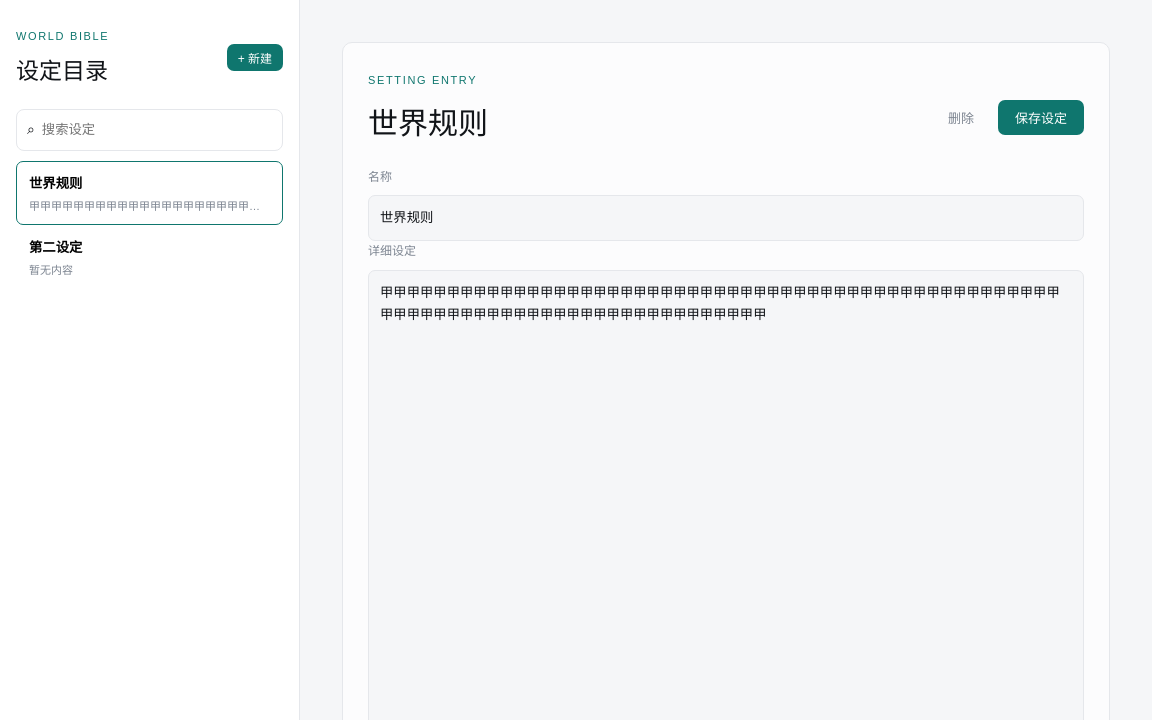
Test case: R11 世界面板 D1~D3：列表/搜索 IME 契约/分页/新建（legacy :13-45） › D1 目录列表：行结构、60 字截断、暂无内容、选中 active（:15）
Expected: the text "世界规则" is shown, [29,173,82,192]
Expected: the text "暂无内容" is shown, [29,261,73,277]
# 点第二行：选中随之切换（:31 find by data-world-id → render）
Click the button "第二设定 暂无内容": (56, 247) [16,225,283,289]
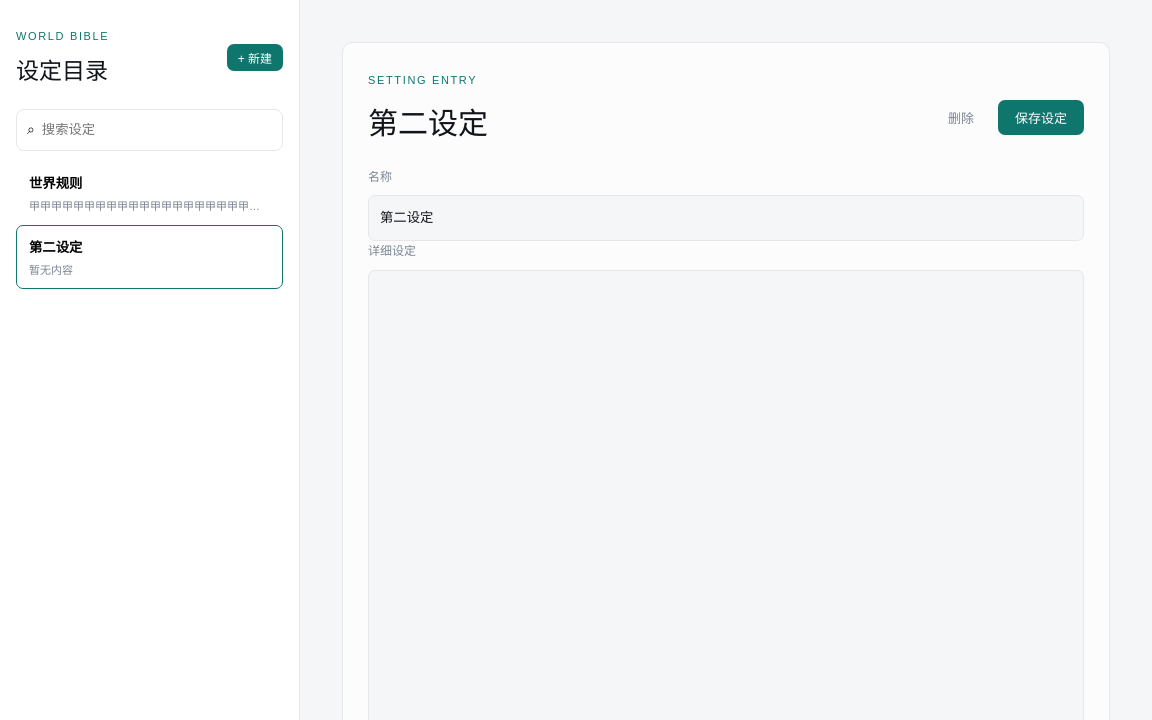
Expected: the field with id "world-entry-title" holds "第二设定", [368,195,1084,241]
